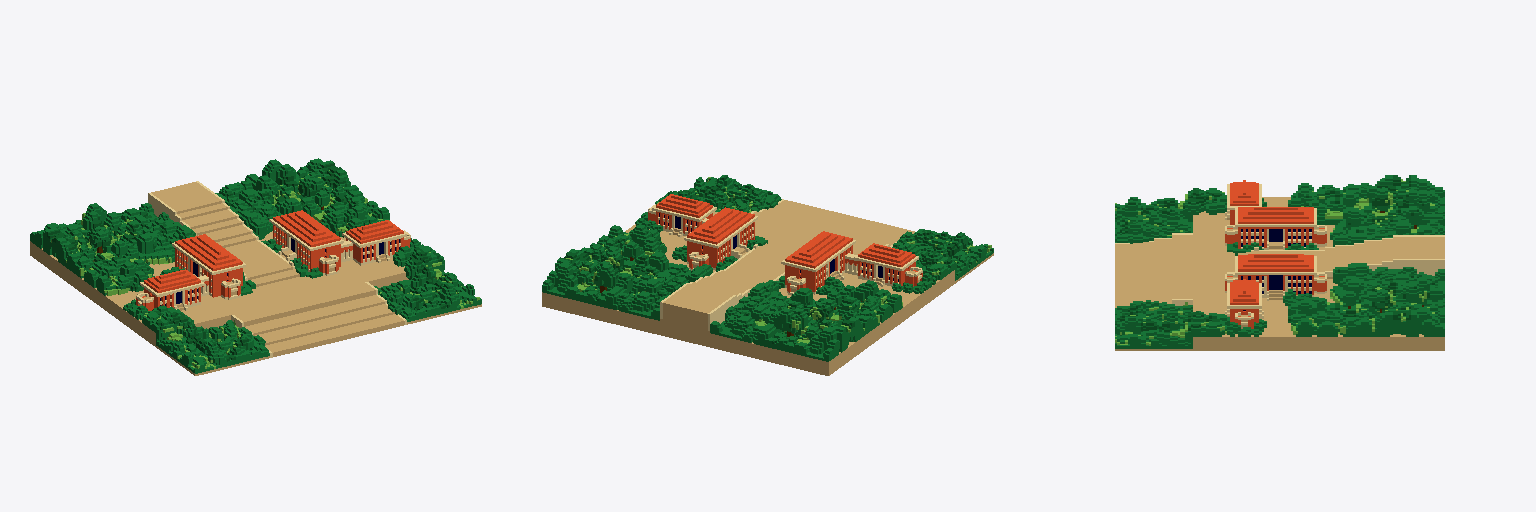
3 renders of one model, left to right at view 1: azimuth 30°, elevation 25°; view 2: azimuth 150°, elevation 25°; view 3: azimuth 270°, elevation 25°, orthographic.
Parts seen in each view (by area): view 1: 礼贤楼、敬宾楼; view 2: 礼贤楼、敬宾楼; view 3: 礼贤楼、敬宾楼.
Part boxes in pixels (x1,y1,x2,y2): 礼贤楼、敬宾楼: (30,158,481,375); 礼贤楼、敬宾楼: (542,175,993,375); 礼贤楼、敬宾楼: (1115,175,1444,350).
Bounding box in the file's own units: 126 × 21 × 126.
Materials: 1 (1 with a texture image).